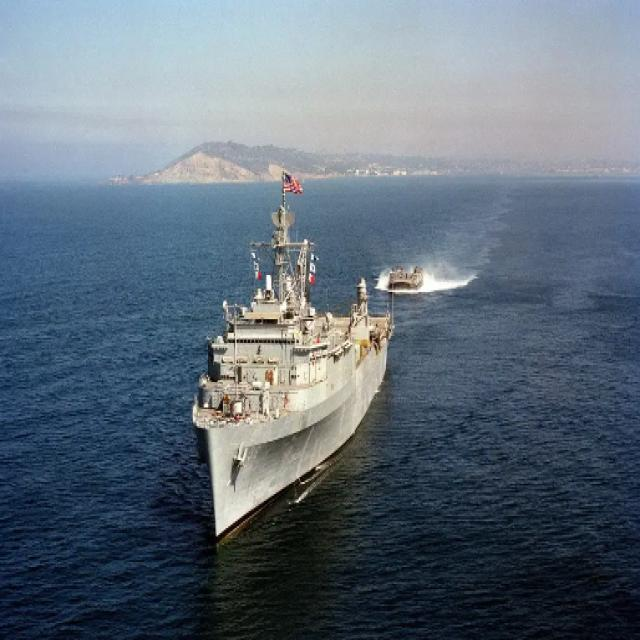navalvessels: (168, 163, 386, 541)
